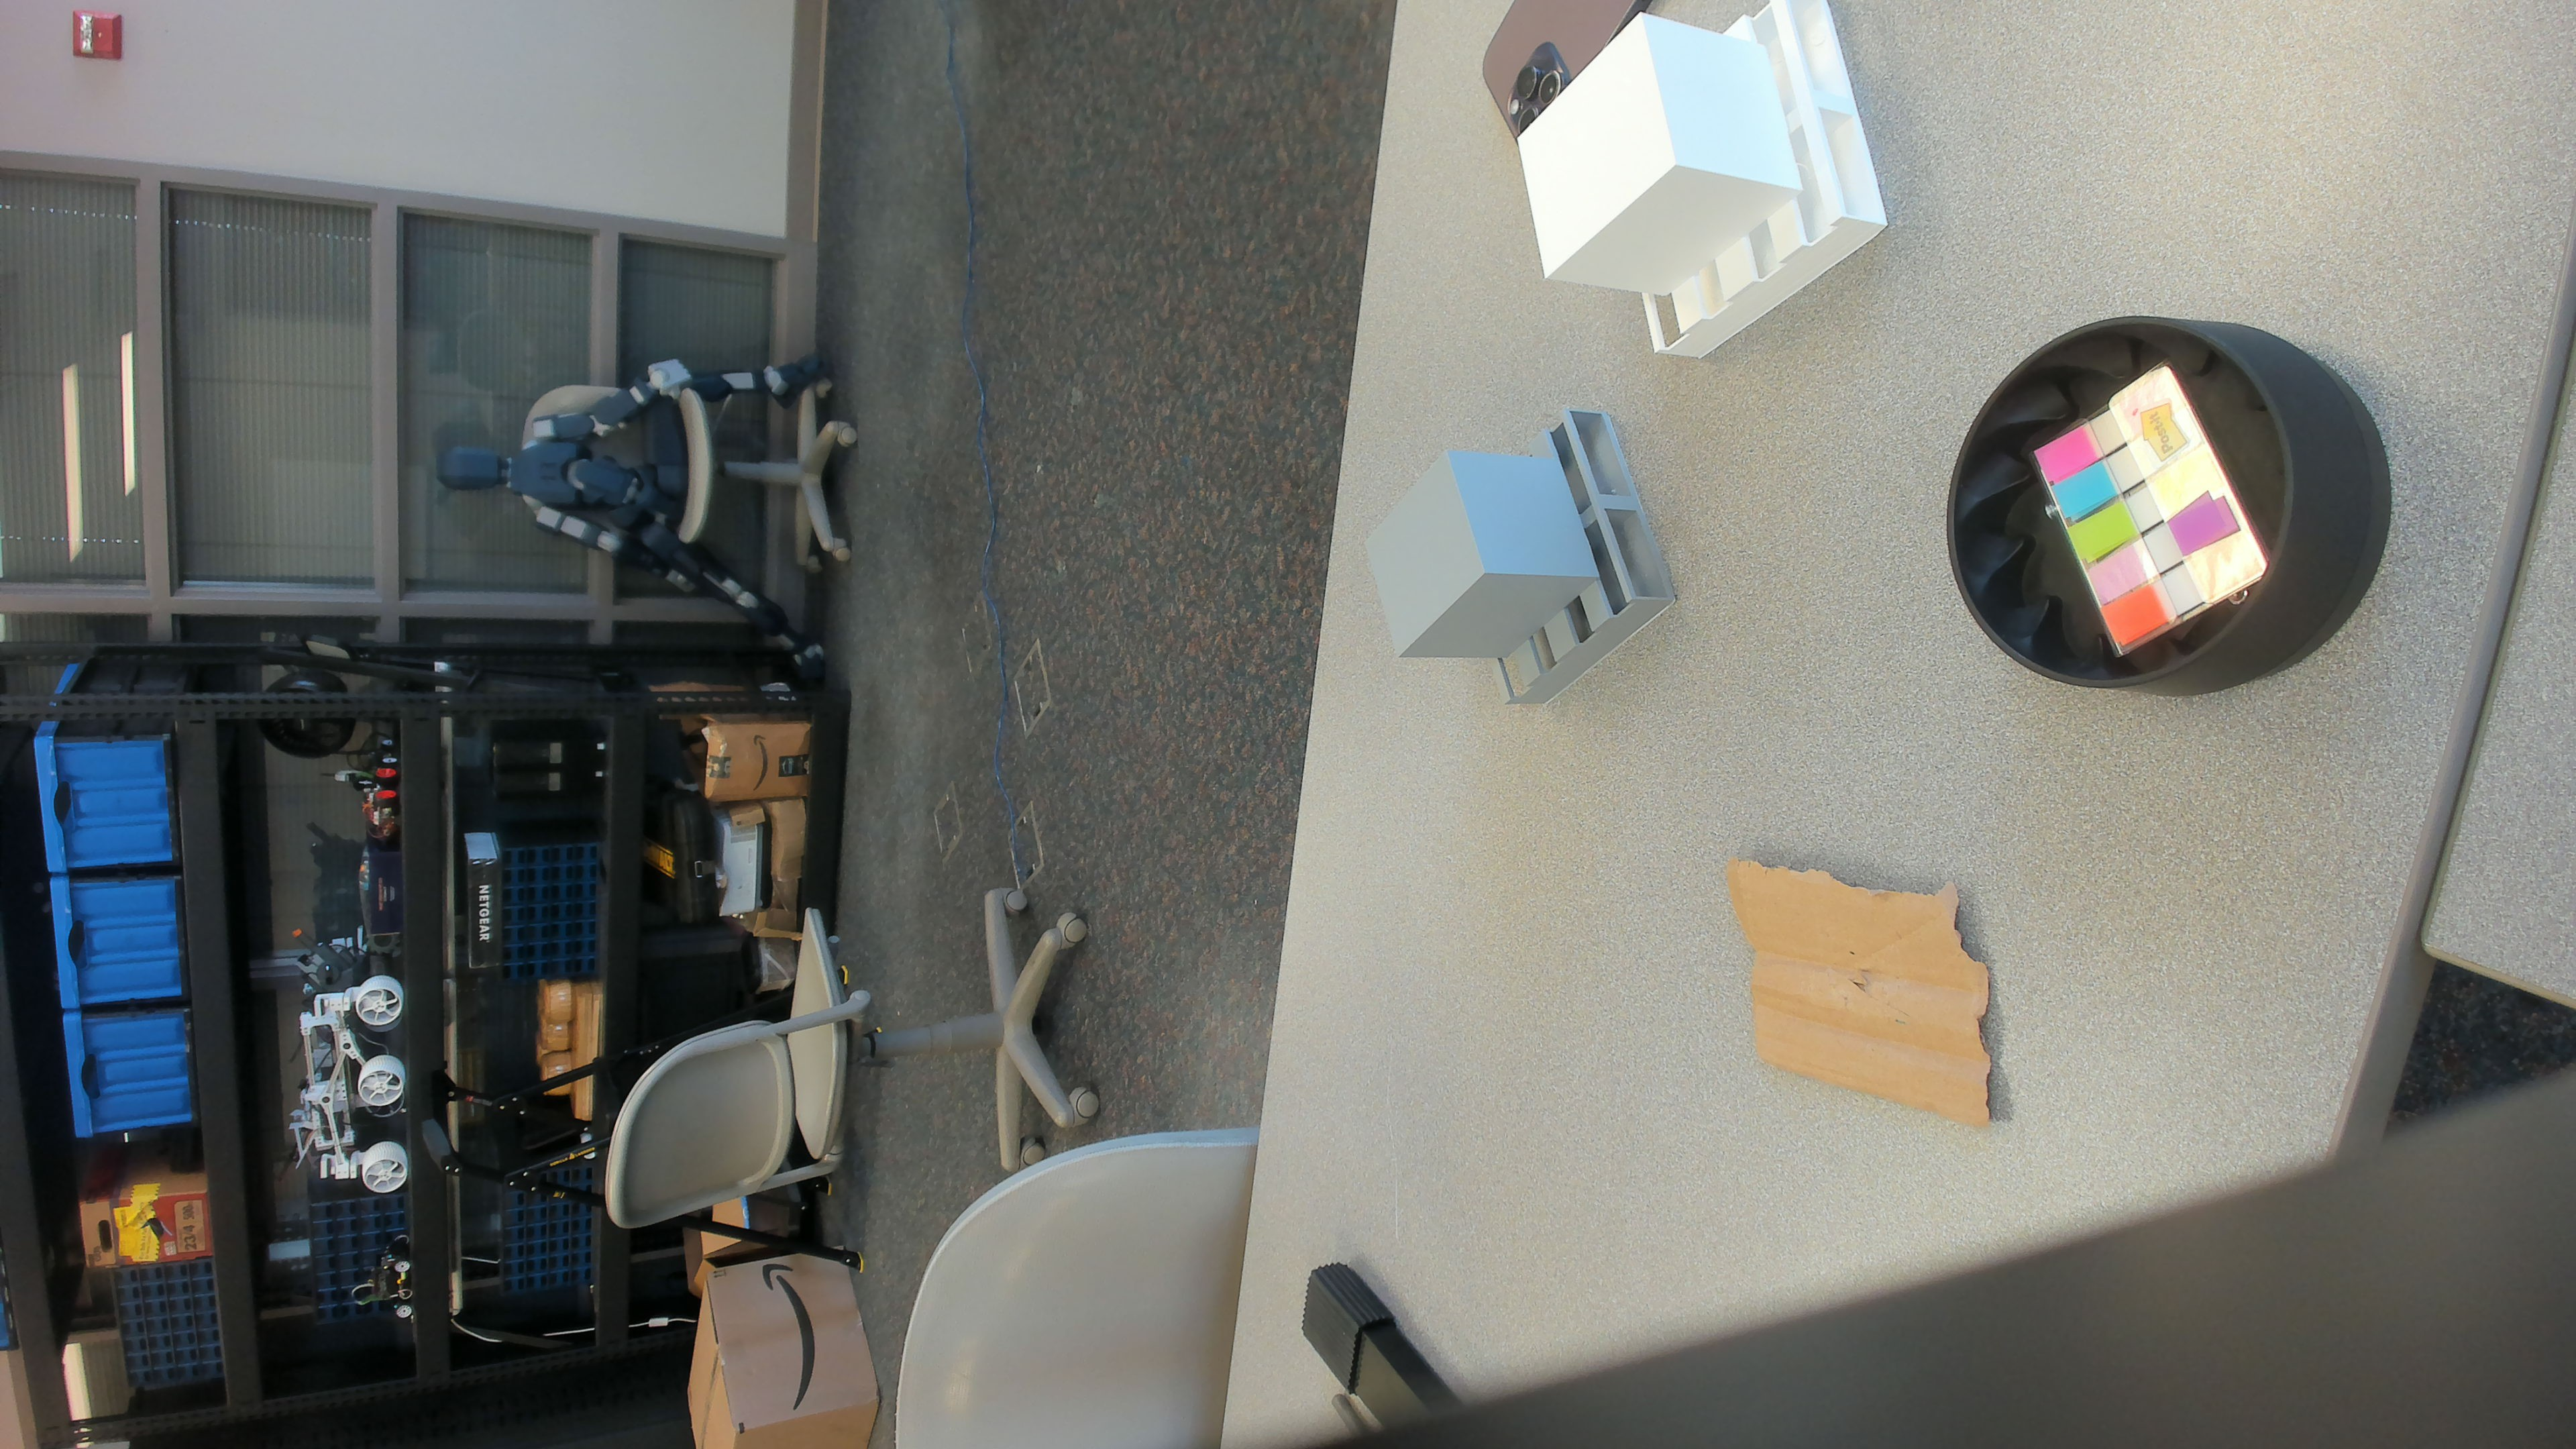grey pallet: (1357, 405, 1691, 722)
white pallet: (1500, 5, 1911, 377)
